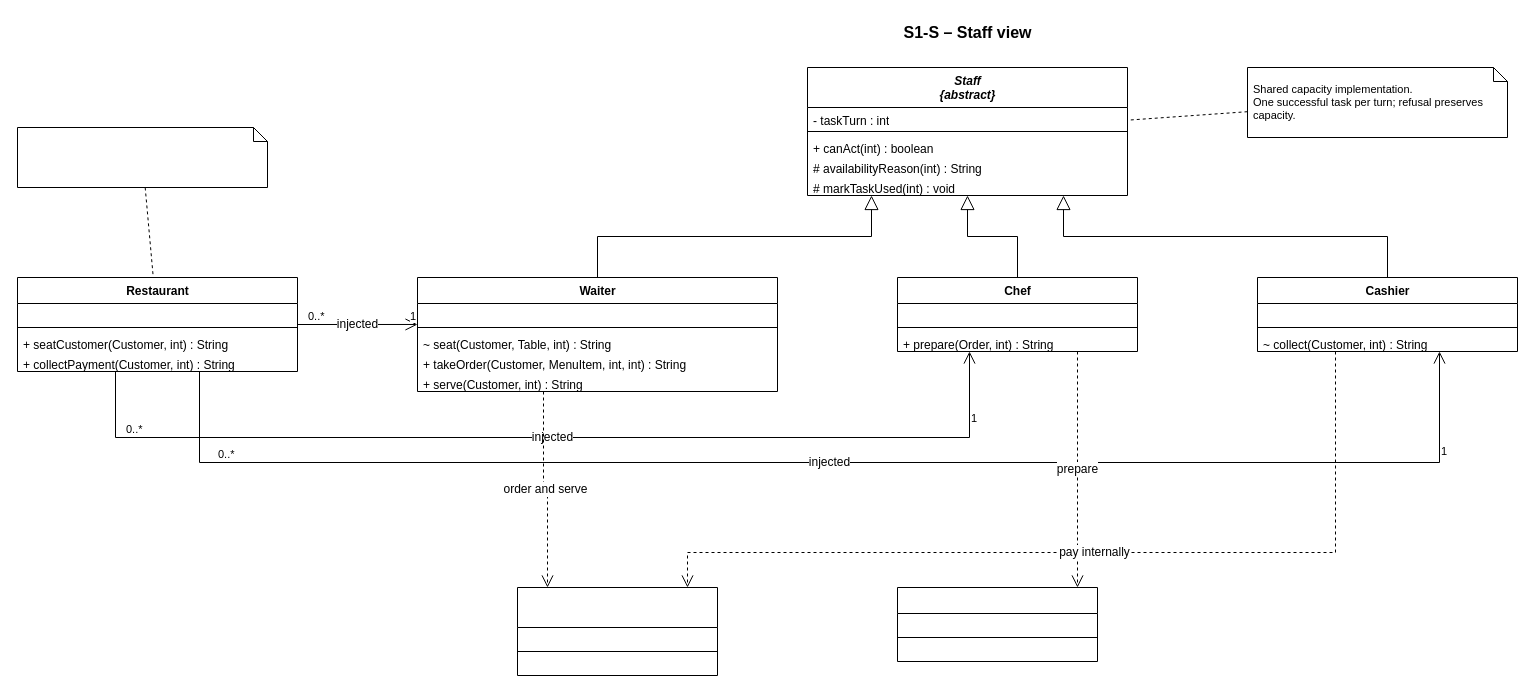
The diagram is 1535 pixels wide and 693 high, and some of its shapes have lost their labels. Here are the shapes that lost their labels. From the top down, the centre of each, then its label:
point 142,157: Seating removes queue entry. Payment releases table after success.
point 617,631: Customer {abstract}
point 997,624: Order
